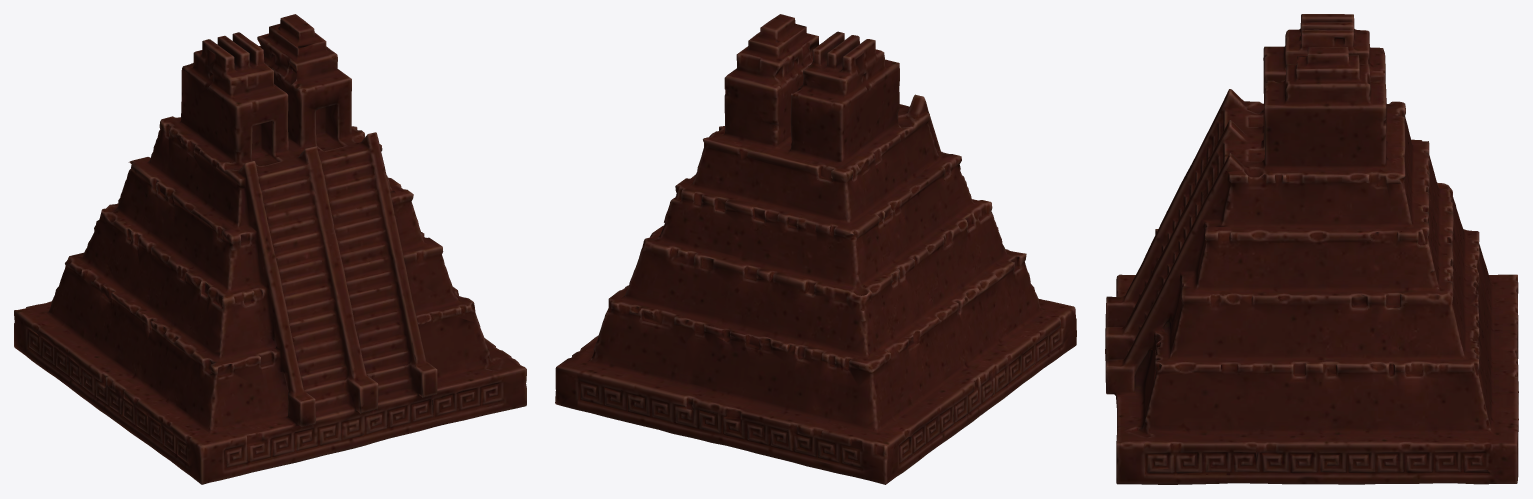
Rendered from rook-tezontle.glb.
3 views of the same model, side by side, from view 1: azimuth 30°, elevation 25°; view 2: azimuth 150°, elevation 25°; view 3: azimuth 270°, elevation 25° (orthographic). The views are drawn at different scales.
Parts seen in each view (by area): view 1: rook; view 2: rook; view 3: rook.
Part boxes in pixels (bbox=[...]): rook: bbox=[14, 14, 526, 484]; rook: bbox=[555, 14, 1076, 484]; rook: bbox=[1105, 14, 1518, 484].
Size of the model in its own units: 0.7628 by 0.7666 by 0.7828.
Materials: 1 (1 with a texture image).
